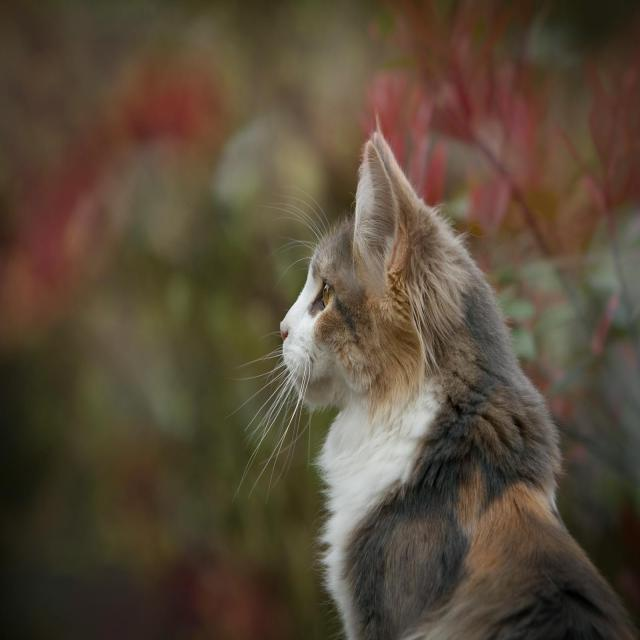Cat: (223, 111, 638, 638)
